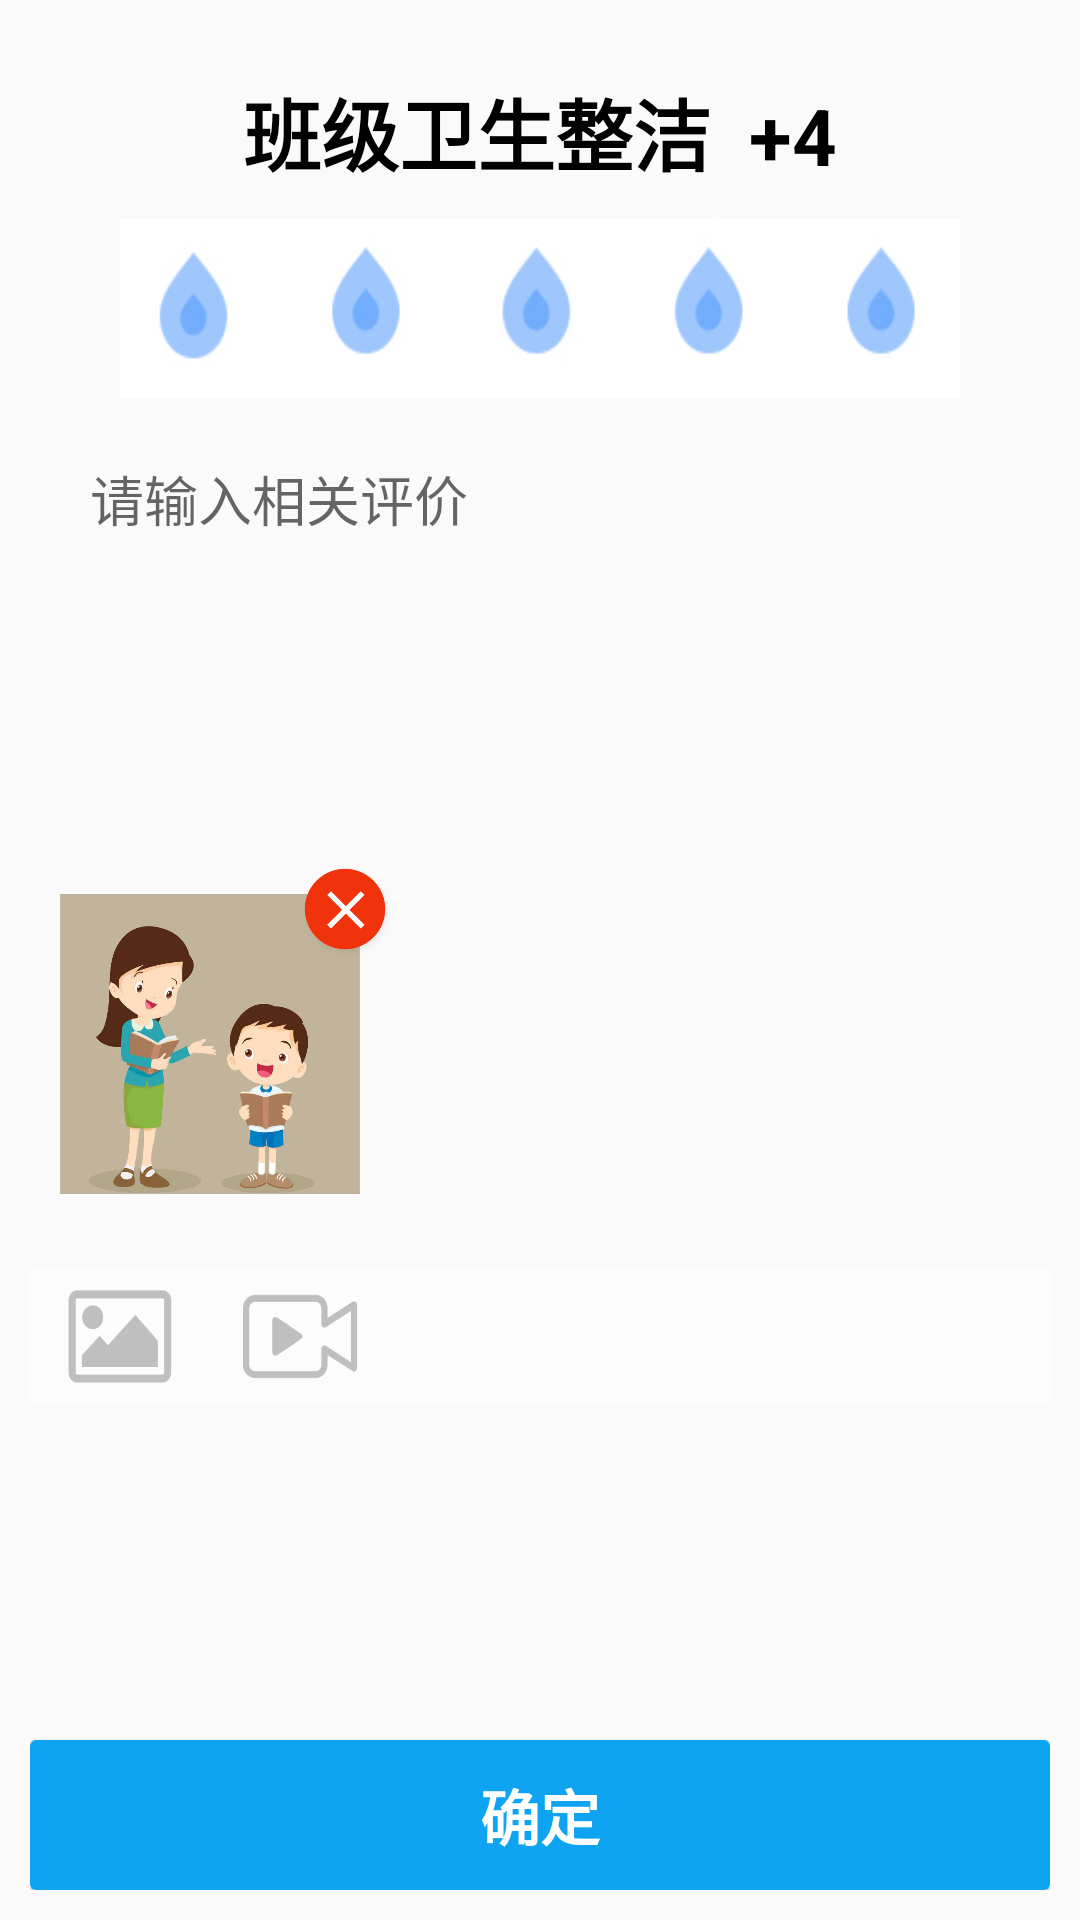

Icons on this 1080w x 1920h Android screen, each with the point to tap as point (x, y):
error: point (343, 911)
